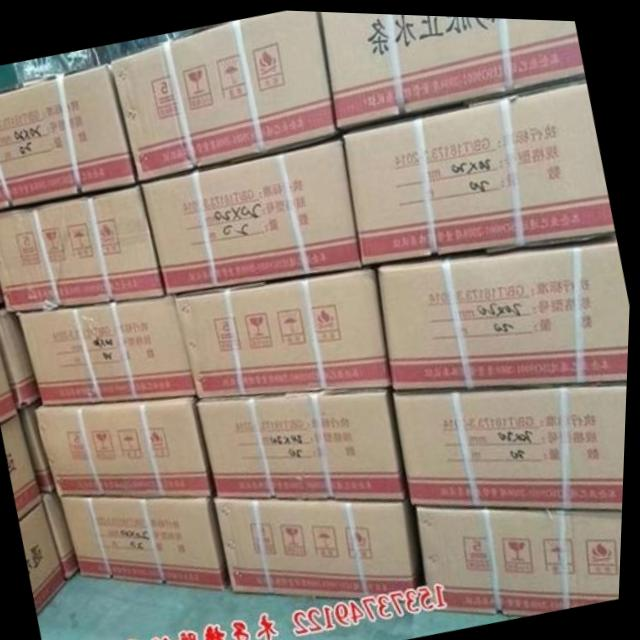box: (344, 74, 616, 262), (379, 227, 632, 388), (110, 8, 341, 183), (139, 137, 364, 295), (318, 9, 586, 124), (397, 377, 630, 504), (177, 267, 396, 401), (199, 384, 412, 497), (421, 501, 626, 611), (216, 493, 430, 598), (0, 185, 165, 315), (0, 61, 138, 213), (17, 293, 199, 407), (39, 392, 217, 495), (65, 495, 234, 585), (23, 501, 71, 614), (0, 304, 42, 415), (3, 416, 46, 521), (21, 397, 62, 494), (43, 489, 83, 579), (0, 335, 22, 423), (0, 275, 7, 303)
